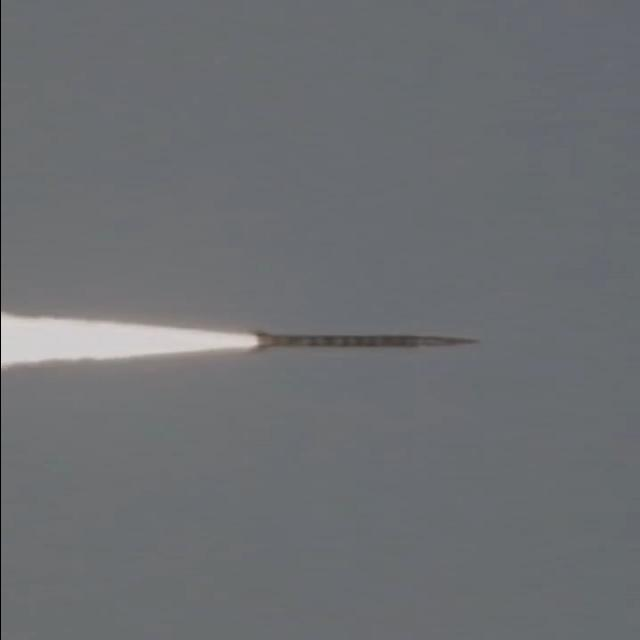Missile: (235, 326, 501, 359)
